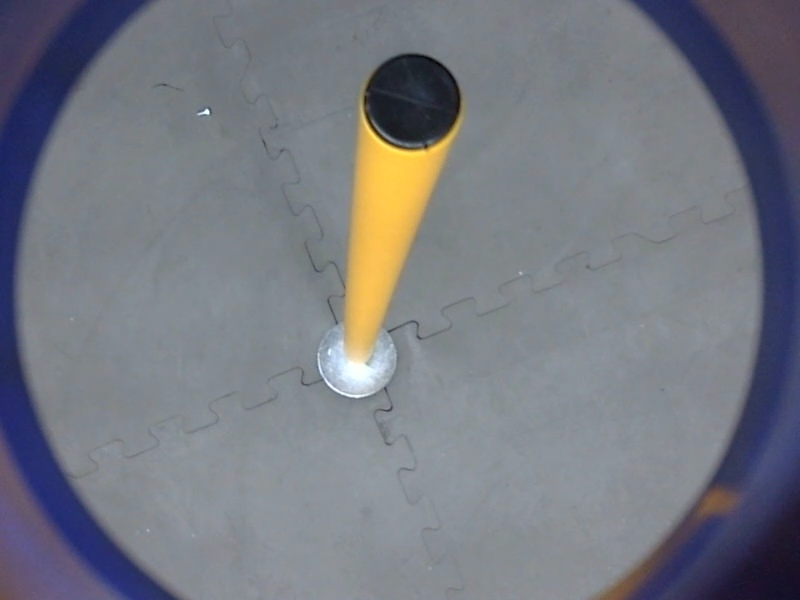tip: (355, 46, 468, 157)
